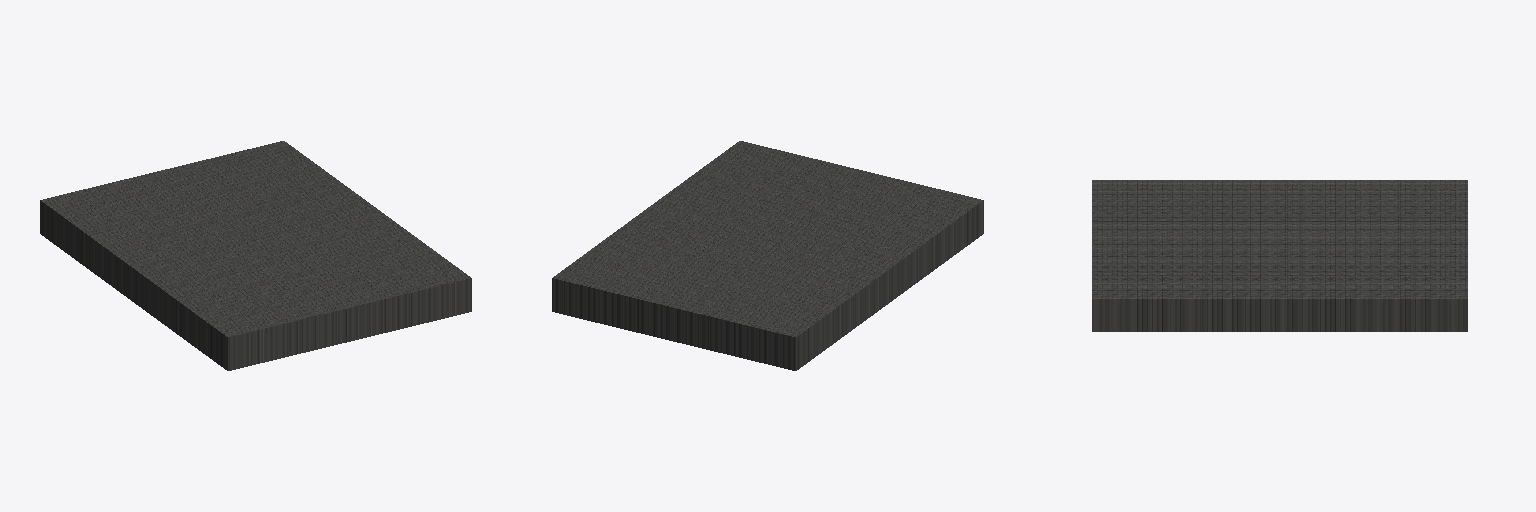
3 renders of one model, left to right at view 1: azimuth 30°, elevation 25°; view 2: azimuth 150°, elevation 25°; view 3: azimuth 270°, elevation 25°, orthographic.
Parts seen in each view (by area): view 1: Plane; view 2: Plane; view 3: Plane.
Boxes of the visible parts, x1,y1,x2,y2 form: Plane: [40, 141, 471, 370]; Plane: [552, 141, 983, 370]; Plane: [1092, 180, 1467, 331].
Bounding box in the file's own units: 30 × 3.98 × 40.
Materials: 1 (1 with a texture image).